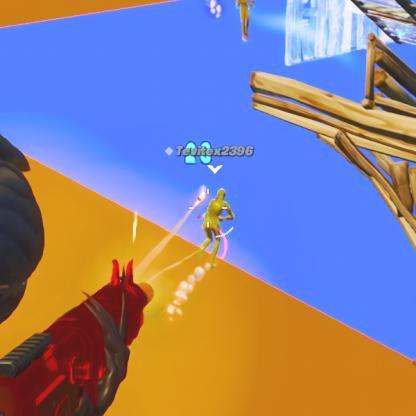person: (199, 189, 235, 270)
